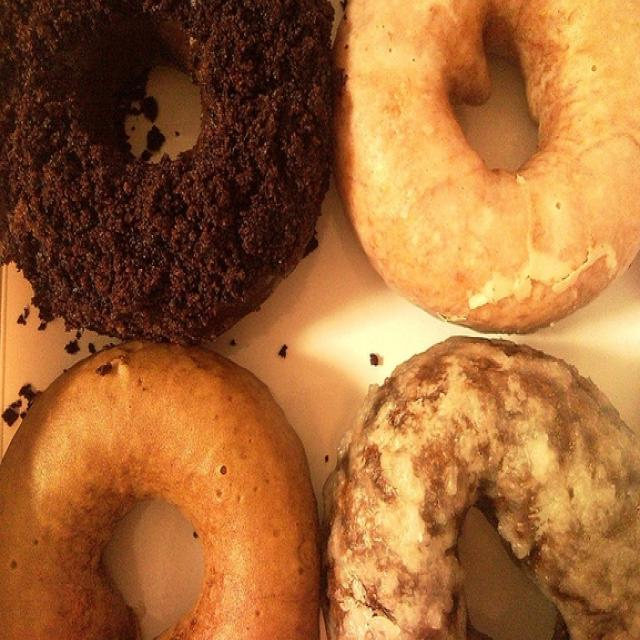炸货点心: (5, 5, 608, 631)
